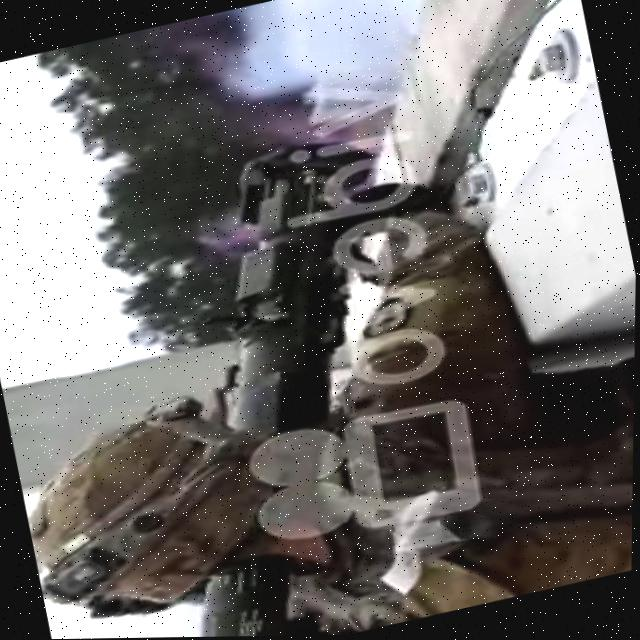rocket: (99, 121, 476, 639)
